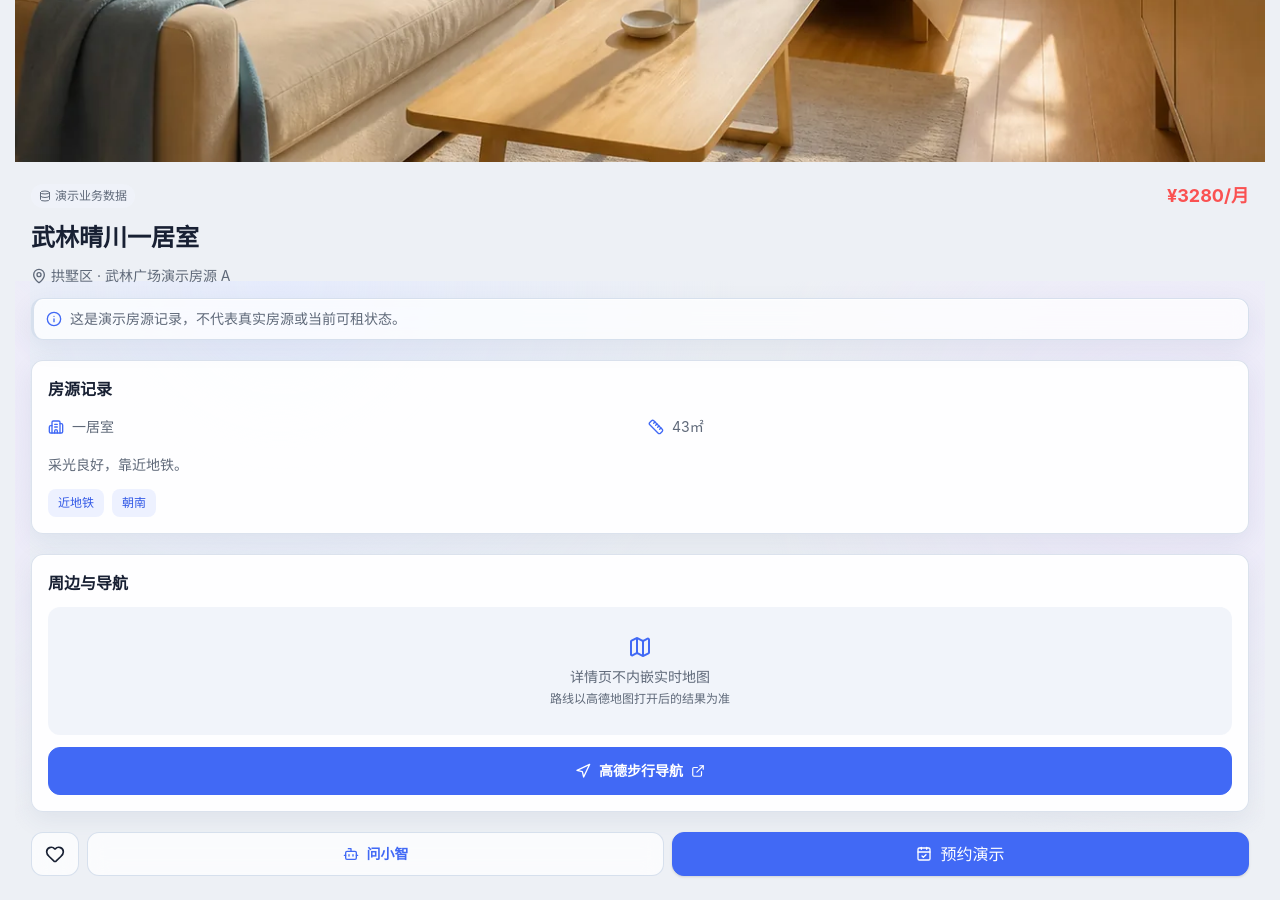
it: housing and deal experiences › shows demo provenance and honest actions on a demo house detail
This screenshot has width=1280, height=900.
(page scrolled)
Expected: the text "演示业务数据" is shown, [31, 184, 135, 208]
Expected: the text "这是演示房源记录，不代表真实房源或当前可租状态。" is shown, [70, 309, 406, 329]
Click the button "预约演示": (960, 854) [672, 832, 1249, 876]
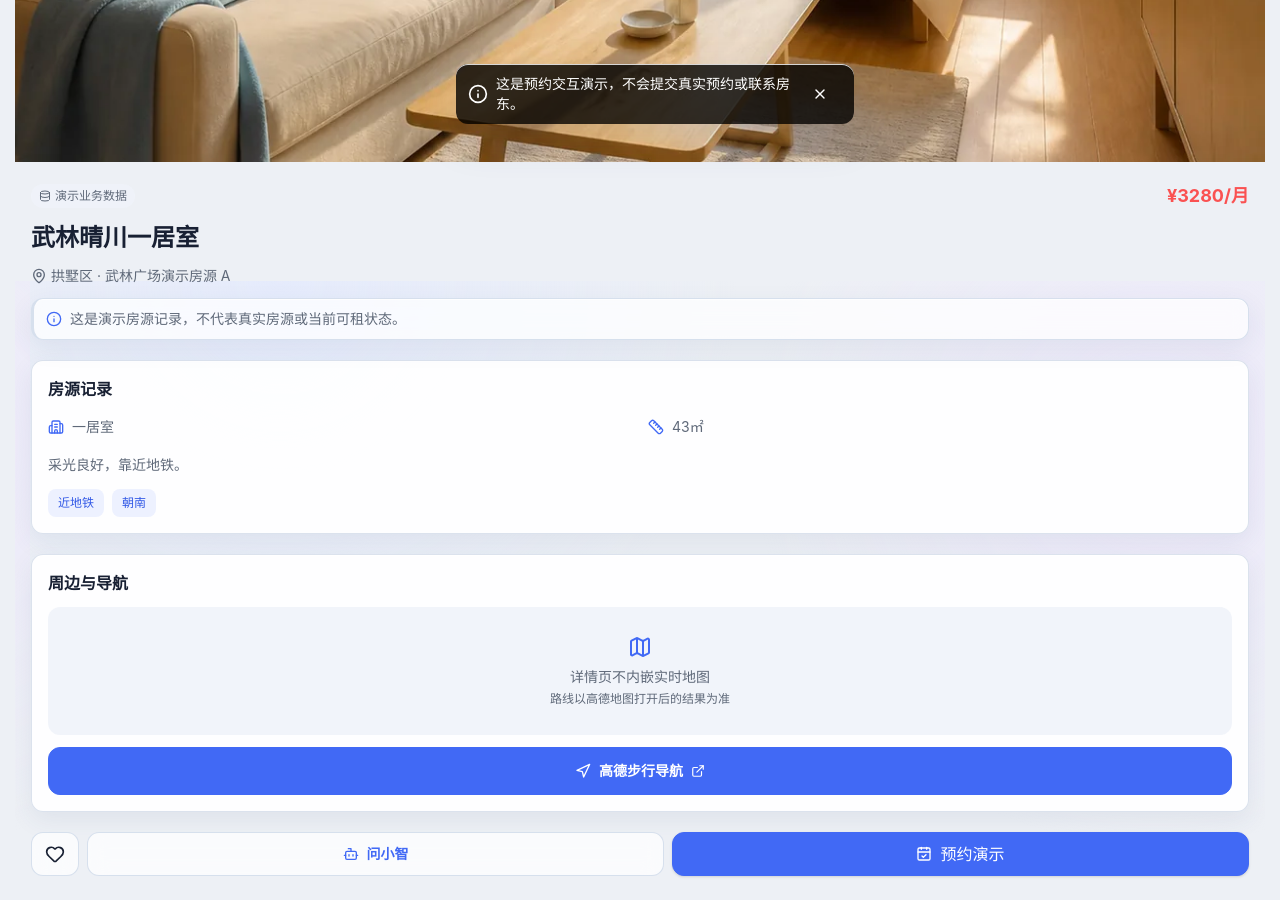
Now the text "这是预约交互演示，不会提交真实预约或联系房东。" is shown, box [496, 74, 790, 114]
